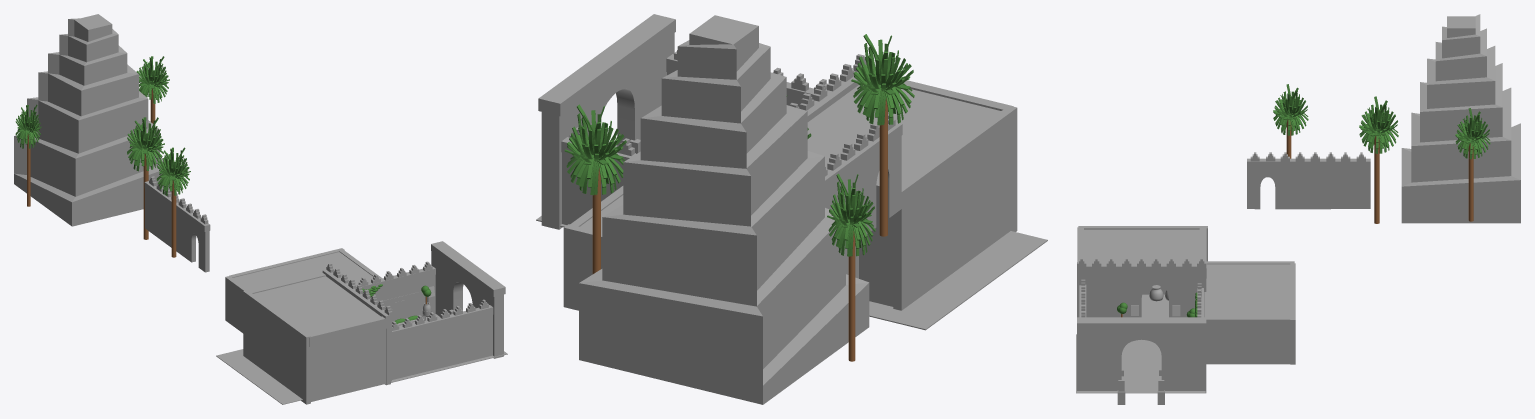
Rendered from EnvironmentBlockout1.fbx.
3 renders of one model, left to right at view 1: azimuth 30°, elevation 25°; view 2: azimuth 150°, elevation 25°; view 3: azimuth 270°, elevation 25°, orthographic. The views are drawn at different scales.
Visible parts, largest first — view 1: Ziggurat, pCube11, pCube8, pCube13, pCube12, pCube57, pCube120, pCube40, pCube585, pCube587, pCube9, pCube2 (+6 smaller); view 2: Ziggurat, pCube13, pCube57, pCube12, pCube9, pCube587, pCube584, pCube120, pCube586, pCube10, pCube39, pCube2 (+4 smaller); view 3: Ziggurat, pCube57, pCube120, pCube6, pCube40, pCube38, pCube12, pCube1, pCube585, pCube584, pCube587, pCube13 (+3 smaller).
Boxes of the visible parts, x1,y1,x2,y2 form: Ziggurat: (14,14,171,226); pCube11: (308,316,392,402); pCube8: (392,305,493,379); pCube13: (243,290,310,404); pCube12: (253,276,380,334); pCube57: (431,241,505,358); pCube120: (144,181,210,272); pCube40: (233,252,372,290); pCube585: (127,117,164,239); pCube587: (156,147,190,257); pCube9: (216,349,302,404); pCube2: (356,266,435,321); Ziggurat: (579,15,869,404); pCube13: (893,105,1017,310); pCube57: (538,14,675,229); pCube12: (807,85,1000,183); pCube9: (869,231,1047,330); pCube587: (851,34,914,236); pCube584: (564,104,626,273); pCube120: (825,122,902,249); pCube586: (827,173,875,361); pCube10: (826,167,893,306); pCube39: (563,224,602,310); pCube2: (561,137,635,224); Ziggurat: (1401,14,1520,223); pCube57: (1077,317,1206,392); pCube120: (1247,158,1370,209); pCube6: (1077,263,1206,317); pCube40: (1204,264,1290,317); pCube38: (1206,317,1294,364); pCube12: (1084,229,1199,263); pCube1: (1076,334,1205,393); pCube585: (1359,96,1398,223); pCube584: (1455,108,1490,221); pCube587: (1273,84,1308,158); pCube13: (1078,226,1207,294).
Size of the model in its own units: 67.42 by 55.21 by 82.64.
